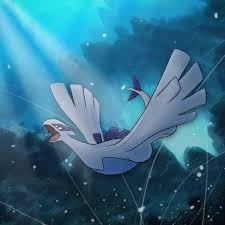lugia: (42, 118, 77, 143)
